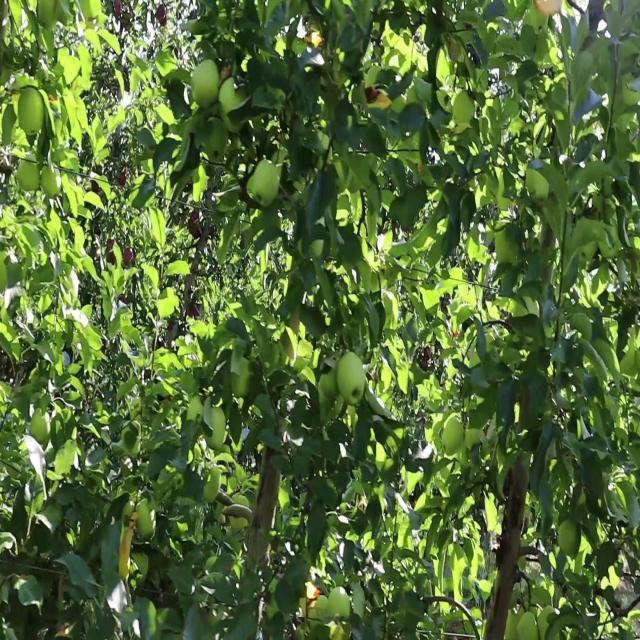apple: (191, 60, 219, 109), (280, 311, 305, 362), (558, 520, 581, 557), (16, 160, 40, 191), (40, 164, 61, 198), (119, 527, 132, 580), (300, 582, 320, 616), (534, 0, 561, 16), (304, 31, 324, 49), (188, 209, 200, 238), (346, 404, 358, 431), (365, 84, 380, 104), (155, 4, 166, 27), (122, 247, 134, 267), (45, 91, 58, 107), (106, 249, 116, 264), (118, 169, 126, 187), (114, 0, 121, 18)
